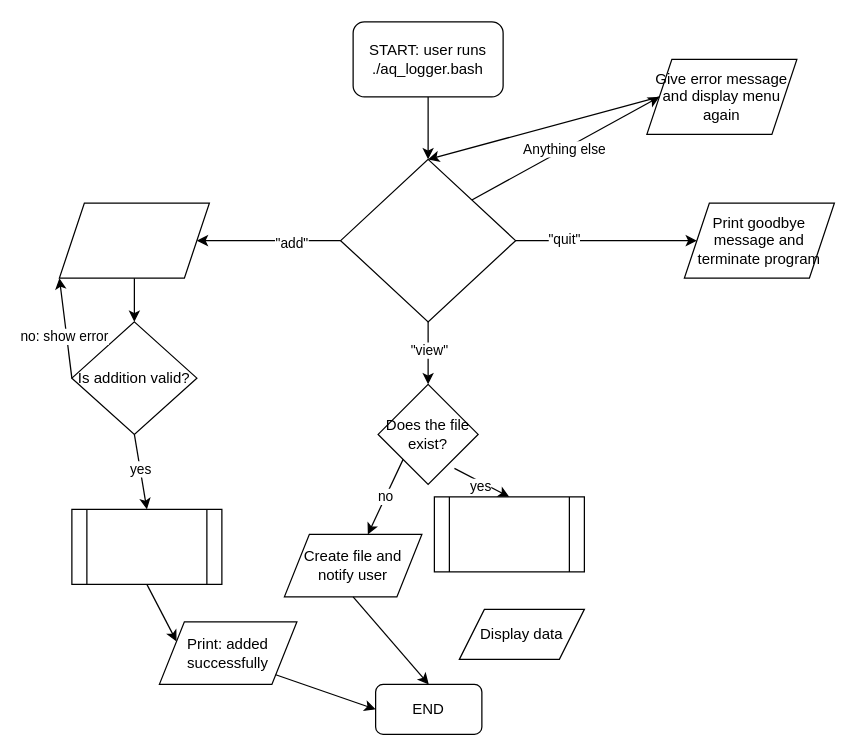
The diagram is 858 pixels wide and 756 high, and some of its shapes have lost their labels. The box of each missing label's shape, as (x1, y1, x2, y2) in pixels:
Add to file: (71, 508, 222, 584)
Greet user and display menu prompting for command: (339, 158, 516, 322)
Prompt for data to add: (58, 202, 209, 278)
Read file: (433, 496, 584, 572)
